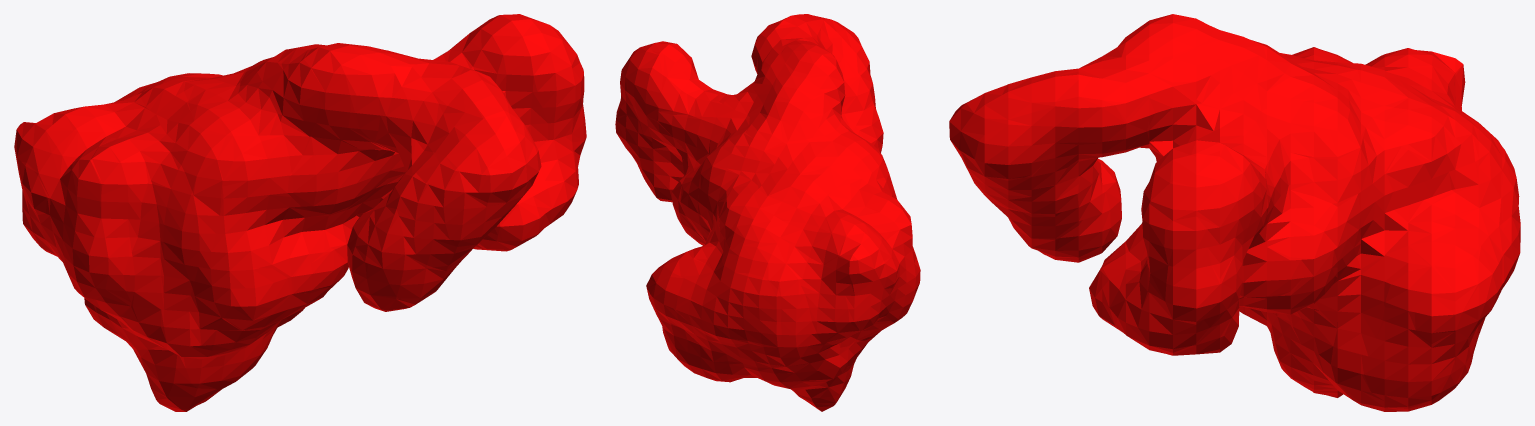
File: proC_coarse.dae
3 views of the same model, side by side, from view 1: azimuth 30°, elevation 25°; view 2: azimuth 150°, elevation 25°; view 3: azimuth 270°, elevation 25° (orthographic). The views are drawn at different scales.
Parts seen in each view (by area): view 1: proC; view 2: proC; view 3: proC.
Boxes of the visible parts, x1=… form: proC: x1=14, y1=14, x2=586, y2=411; proC: x1=615, y1=14, x2=920, y2=411; proC: x1=949, y1=14, x2=1520, y2=411.
Bounding box in the file's own units: 66.97 × 55.27 × 67.47.
